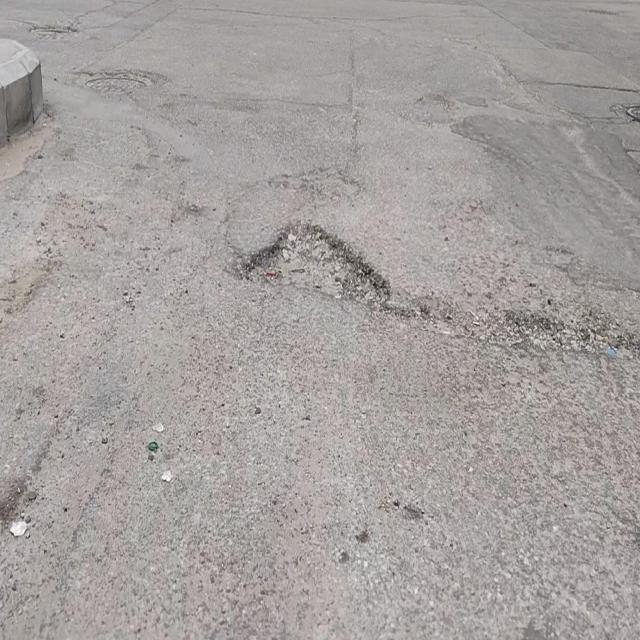Potholes: (244, 212, 395, 310)
